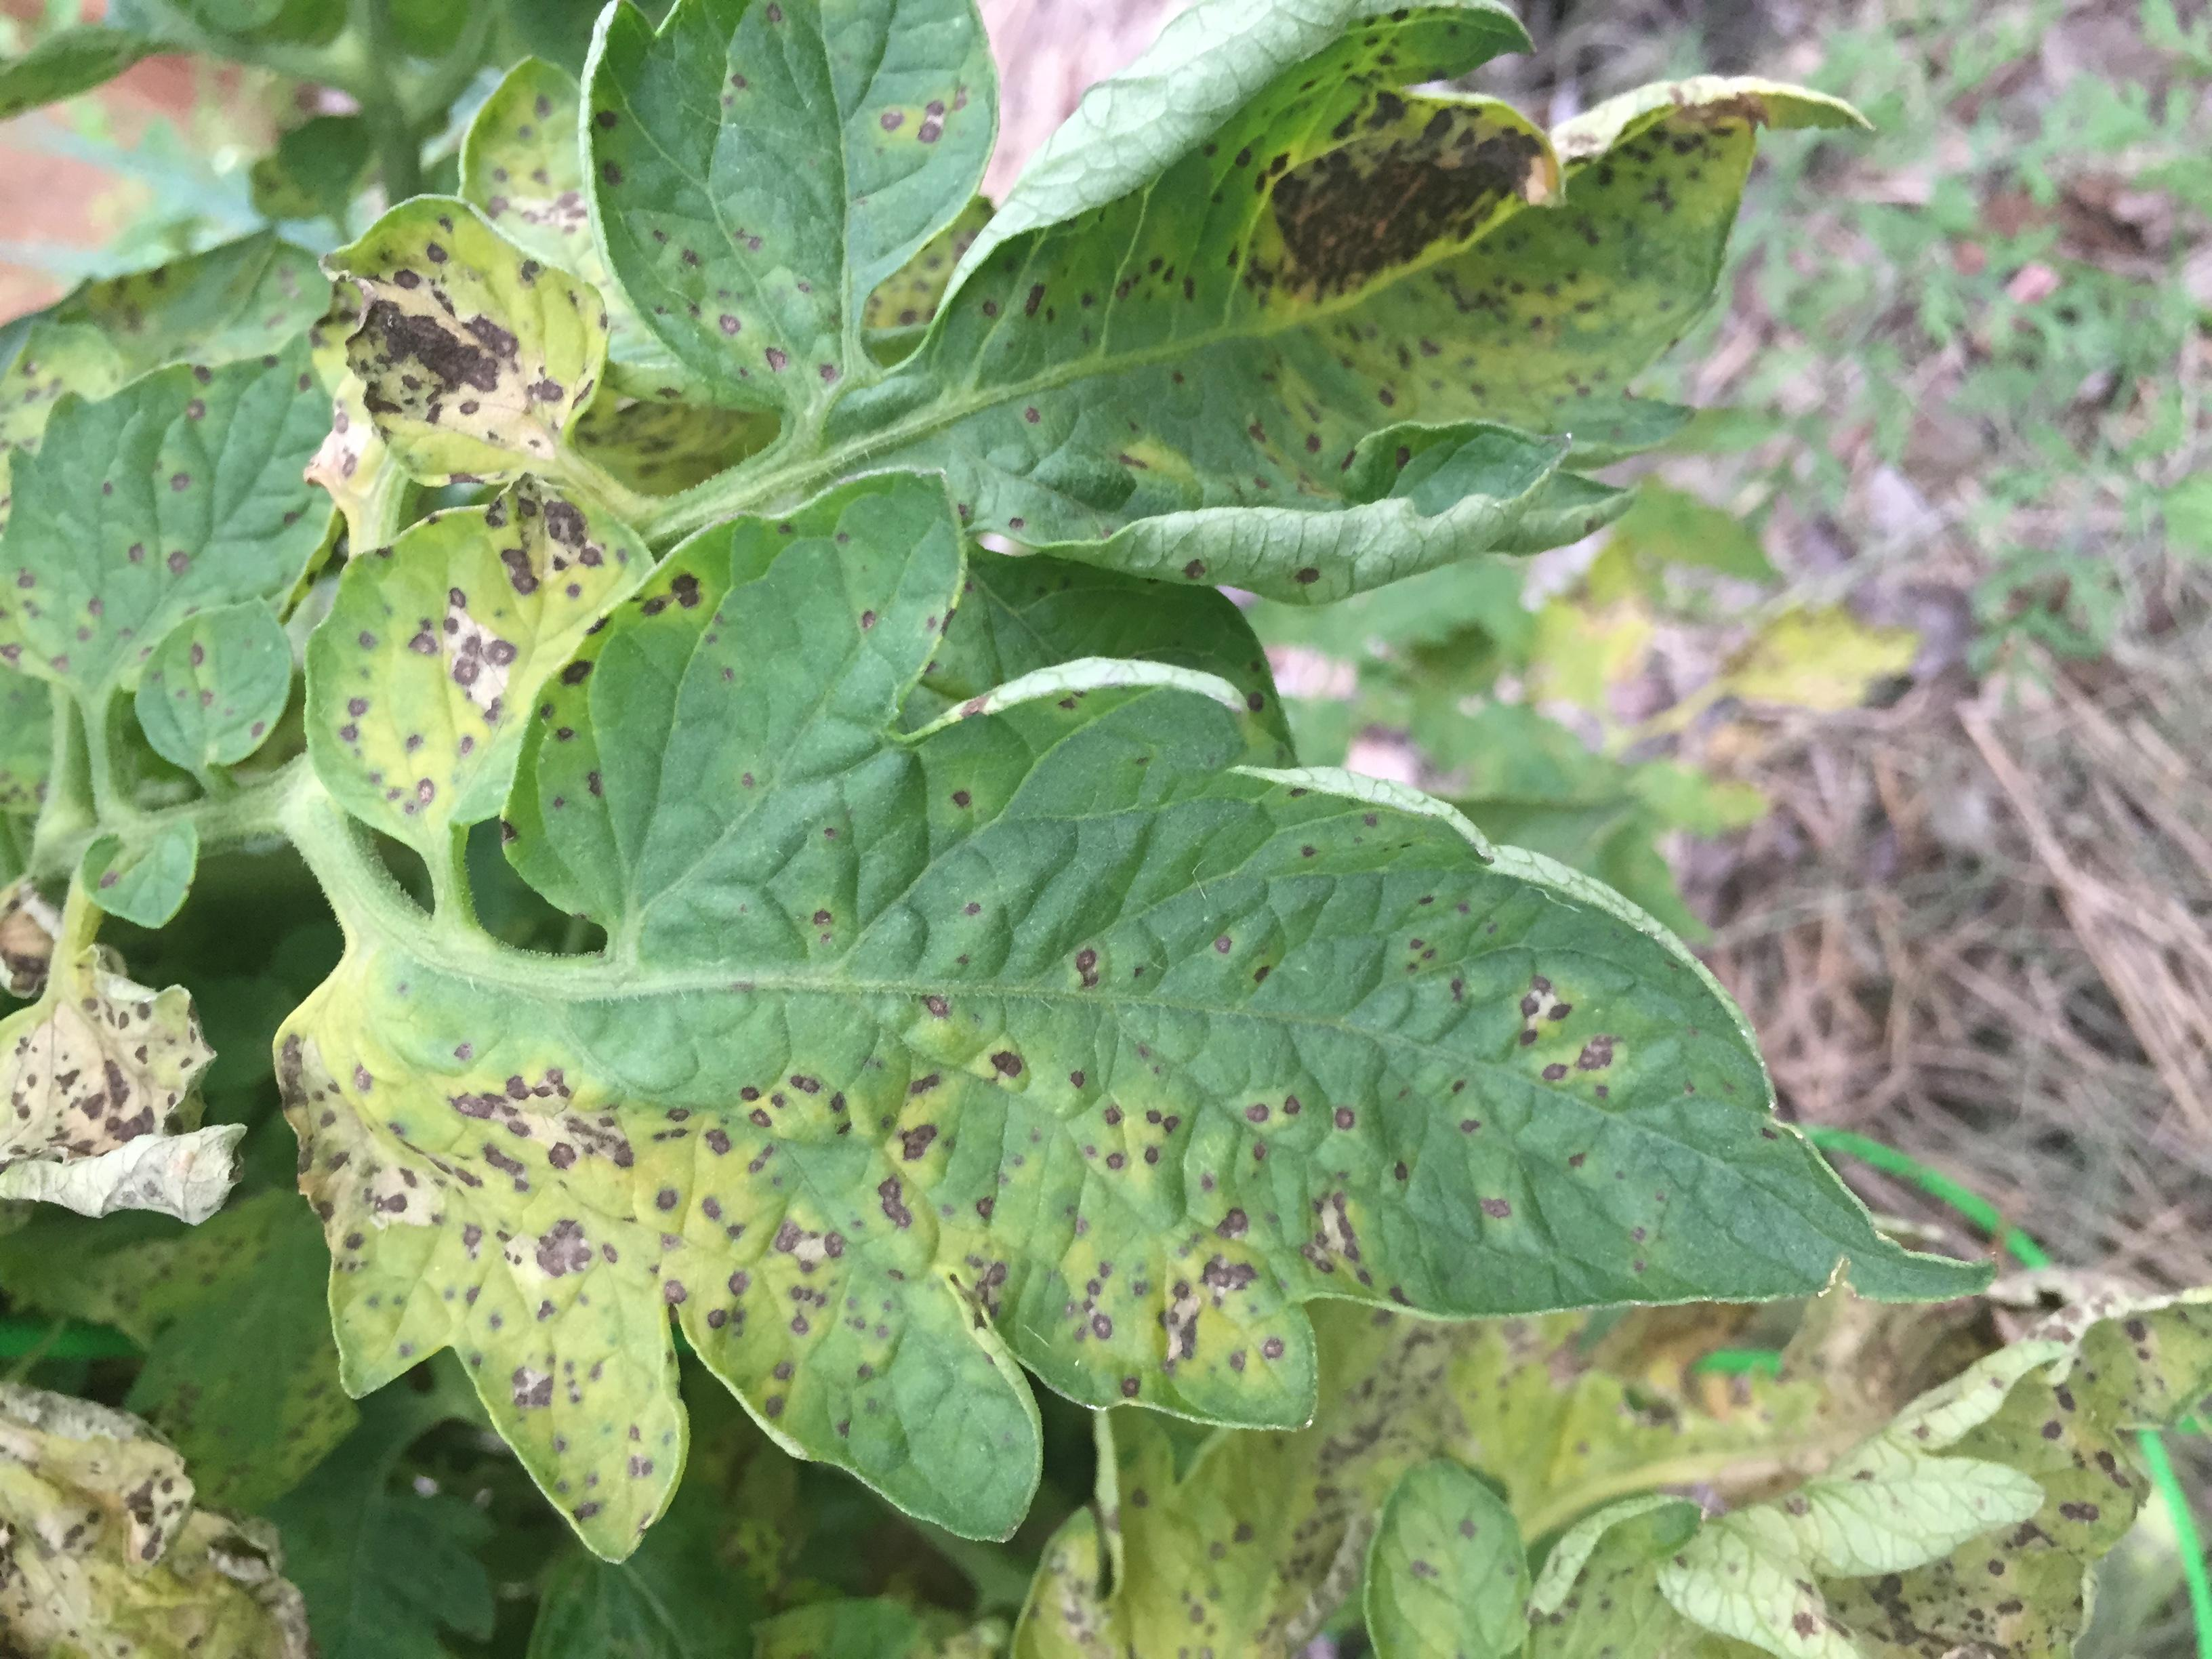Tomato leaf late blight: (131, 131, 1595, 1567), (1406, 640, 2212, 1401), (1029, 204, 1977, 495), (1123, 5, 1841, 261), (1689, 432, 2212, 725)
